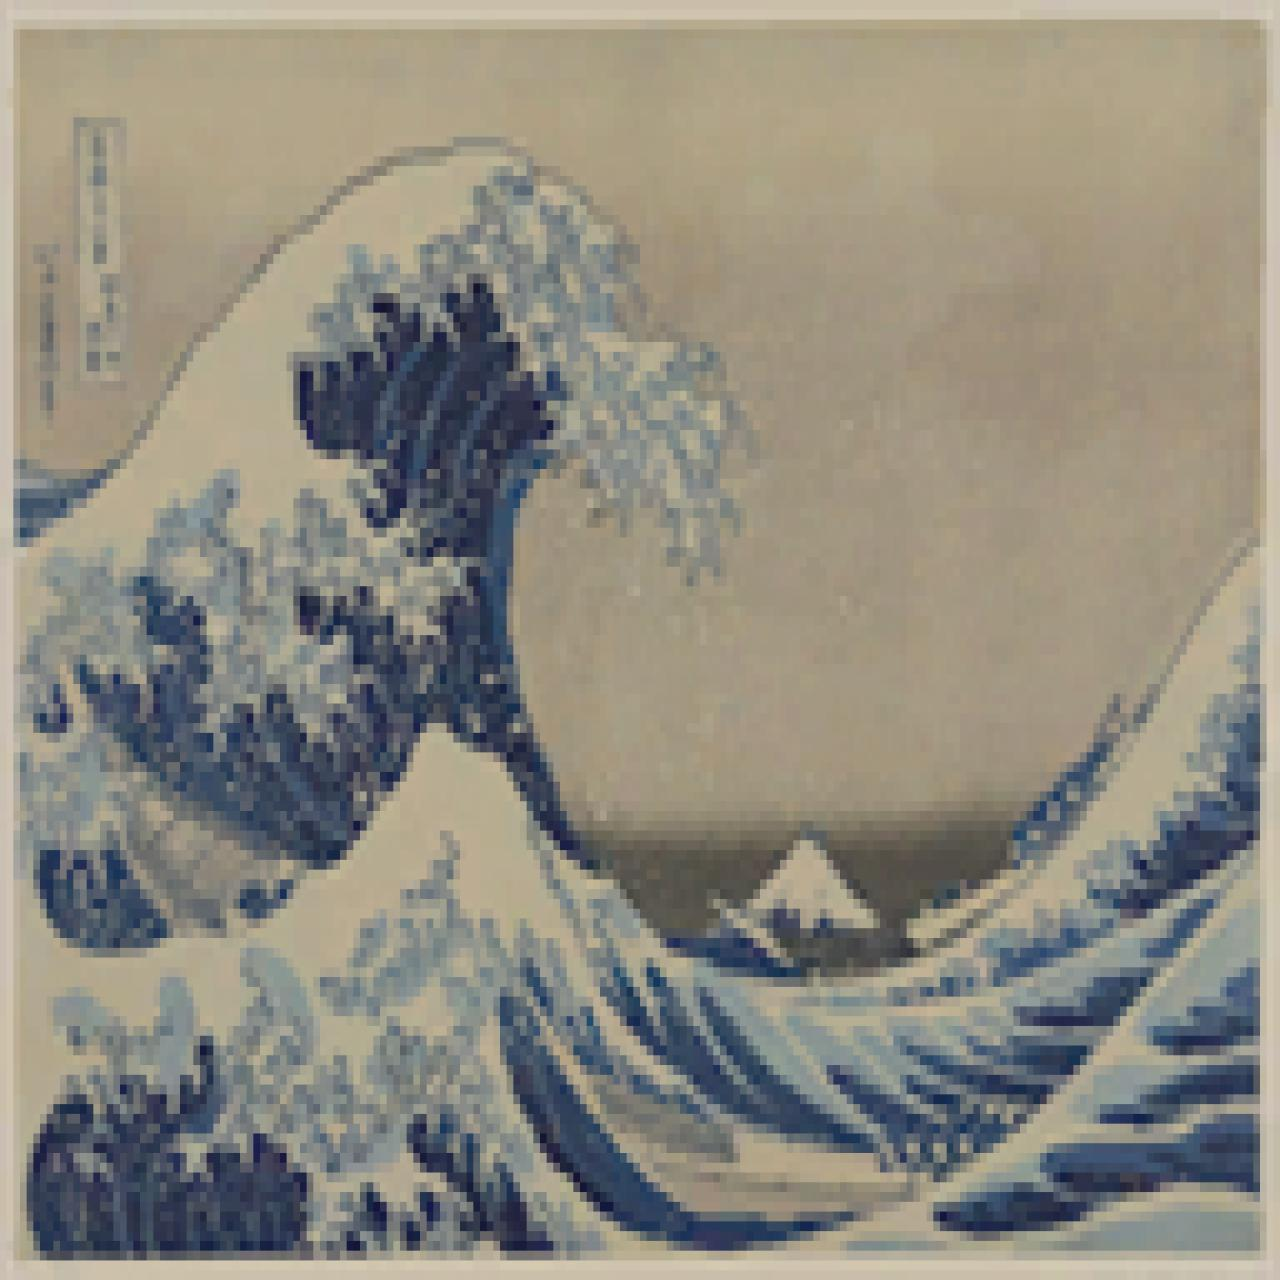Kanagawa: (1, 1, 1275, 1272)
